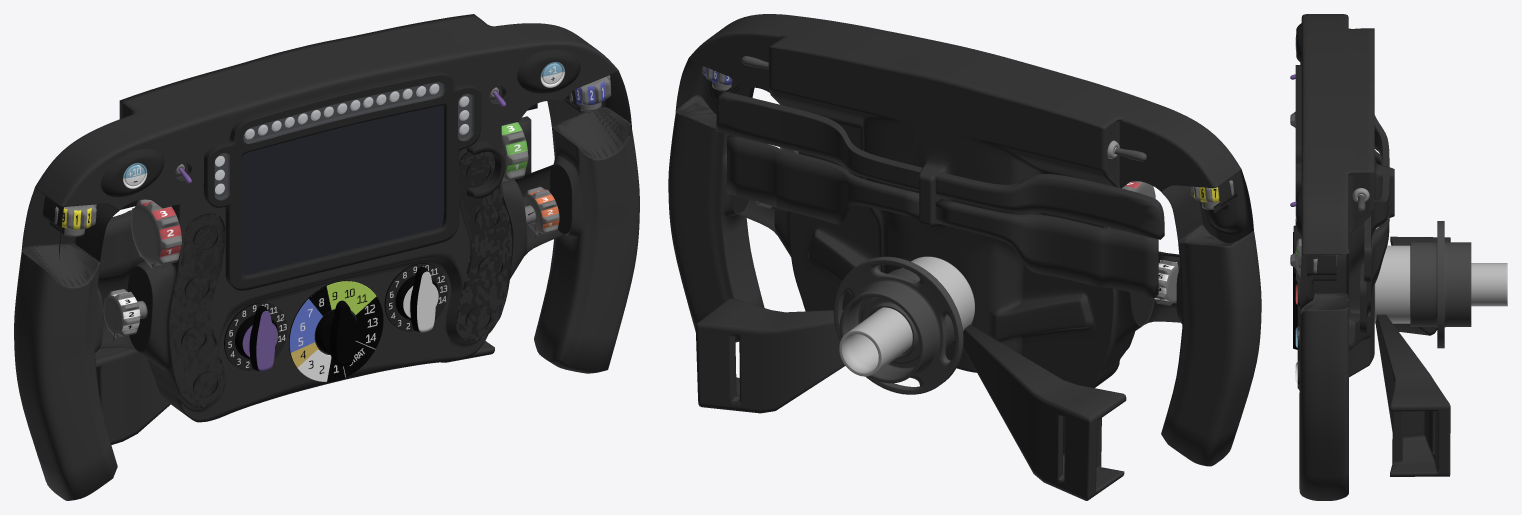
Rendered from mclaren_formula_1_steering_wheel.glb.
3 views of the same model, side by side, from view 1: azimuth 30°, elevation 25°; view 2: azimuth 150°, elevation 25°; view 3: azimuth 270°, elevation 25° (orthographic). The views are drawn at different scales.
Parts seen in each view (by area): view 1: Plane, Plane.001, Plane.014, Plane.010, Plane.011, Cylinder.004, Circle, Plane.002, Plane.008, Plane.003, Plane.013, Plane.007 (+4 smaller); view 2: Plane, Plane.001, Plane.008, Plane.007, Plane.006, Circle.004, Plane.002, Cylinder.004, Plane.003, Plane.009; view 3: Plane, Plane.001, Circle.004, Plane.008, Plane.002, Plane.006, Plane.007, Plane.010, Plane.011, Cylinder.004, Plane.009.
Boxes of the visible parts, bbox=[...] form: Plane: bbox=[35, 14, 618, 422]; Plane.001: bbox=[14, 107, 639, 500]; Plane.014: bbox=[242, 105, 443, 274]; Plane.010: bbox=[203, 71, 481, 290]; Plane.011: bbox=[168, 140, 513, 407]; Cylinder.004: bbox=[54, 75, 611, 338]; Circle: bbox=[224, 263, 448, 381]; Plane.002: bbox=[21, 71, 631, 287]; Plane.008: bbox=[95, 341, 494, 444]; Plane.003: bbox=[98, 164, 572, 352]; Plane.013: bbox=[215, 82, 473, 199]; Plane.007: bbox=[99, 116, 531, 276]; Plane: bbox=[688, 14, 1241, 387]; Plane.001: bbox=[668, 95, 1261, 466]; Plane.008: bbox=[695, 298, 1126, 500]; Plane.007: bbox=[727, 135, 1158, 298]; Plane.006: bbox=[716, 92, 1164, 239]; Circle.004: bbox=[833, 256, 974, 394]; Plane.002: bbox=[675, 59, 1253, 246]; Cylinder.004: bbox=[702, 66, 1233, 305]; Plane.003: bbox=[731, 195, 1180, 326]; Plane.009: bbox=[741, 56, 1146, 161]; Plane: bbox=[1295, 14, 1394, 377]; Plane.001: bbox=[1299, 293, 1348, 500]; Circle.004: bbox=[1374, 221, 1507, 348]; Plane.008: bbox=[1375, 236, 1450, 476]; Plane.002: bbox=[1300, 62, 1348, 311]; Plane.006: bbox=[1364, 115, 1389, 282]; Plane.007: bbox=[1360, 150, 1389, 333]; Plane.010: bbox=[1295, 65, 1301, 285]; Plane.011: bbox=[1293, 225, 1301, 390]; Cylinder.004: bbox=[1290, 111, 1348, 339]; Plane.009: bbox=[1352, 188, 1369, 212].
Bounding box in the file's own units: 4.15 × 2.38 × 1.56.
22 materials, 5 textured.
